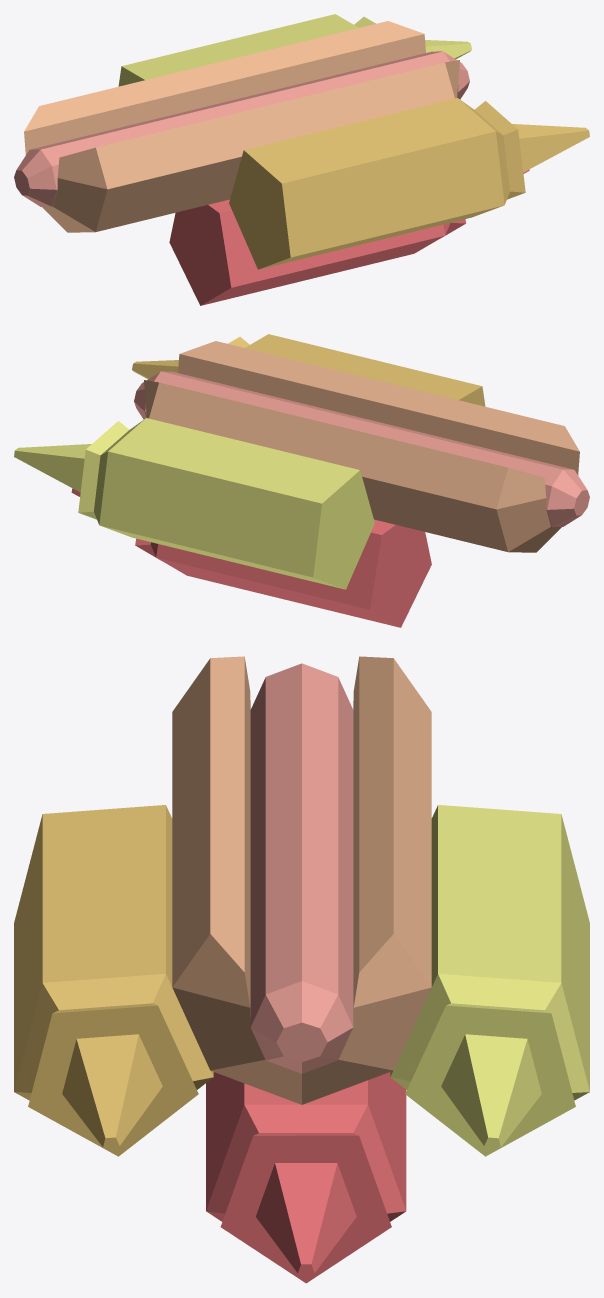
The model's file is Hot Dog.fbx.
3 views of the same model, one above another, from view 1: azimuth 30°, elevation 25°; view 2: azimuth 150°, elevation 25°; view 3: azimuth 270°, elevation 25° (orthographic). The views are drawn at different scales.
Visible parts, largest first — view 1: Bread, Muztard, Ketchup, Sausage, Mayo; view 2: Bread, Mayo, Ketchup, Sausage, Muztard; view 3: Bread, Mayo, Muztard, Sausage, Ketchup.
Boxes of the visible parts, bbox=[...] form: Bread: bbox=[24, 21, 459, 232]; Muztard: bbox=[229, 98, 589, 269]; Ketchup: bbox=[169, 169, 529, 305]; Sausage: bbox=[14, 51, 469, 206]; Mayo: bbox=[118, 14, 471, 86]; Bread: bbox=[144, 341, 579, 552]; Mayo: bbox=[14, 418, 374, 589]; Ketchup: bbox=[71, 488, 431, 627]; Sausage: bbox=[134, 371, 589, 526]; Muztard: bbox=[132, 334, 485, 406]; Bread: bbox=[172, 656, 431, 1104]; Mayo: bbox=[390, 805, 589, 1156]; Muztard: bbox=[14, 805, 213, 1156]; Sausage: bbox=[250, 663, 353, 1073]; Ketchup: bbox=[206, 1072, 406, 1283].
Size of the model in its own units: 3.83 by 1.54 by 2.33.
Materials: 5 (5 with a texture image).
